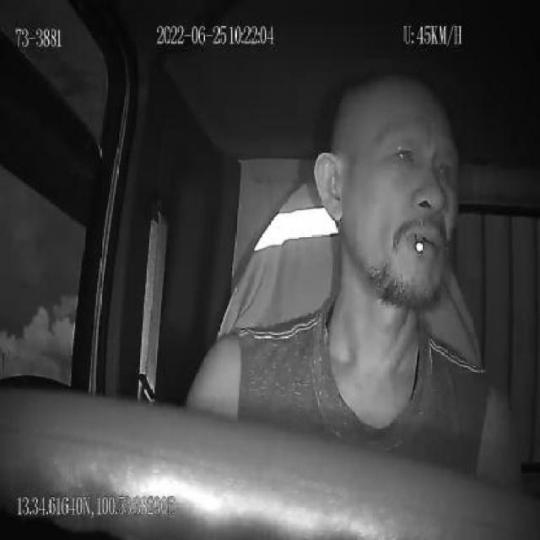smoking: (416, 234, 423, 253)
